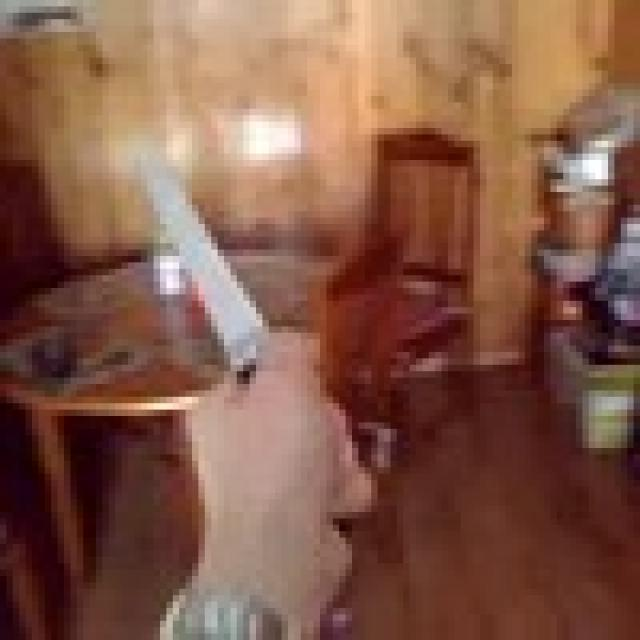Knife: (141, 128, 339, 467)
